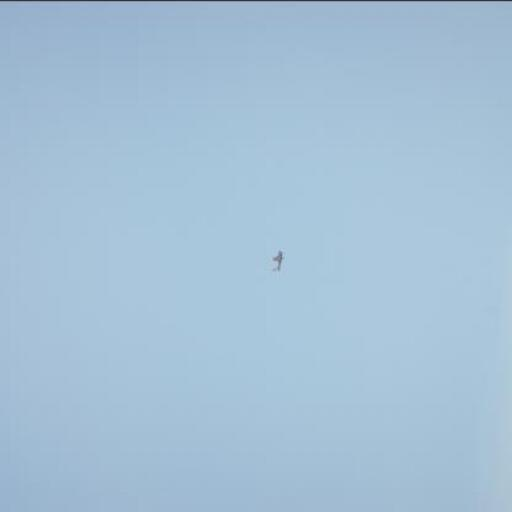aircraft: (268, 246, 290, 273)
